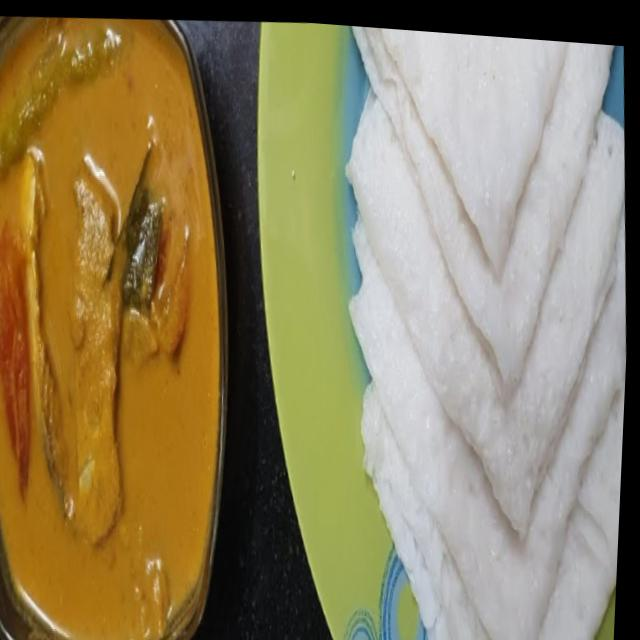DOSA: (347, 26, 626, 640)
FISH CURRY: (0, 18, 226, 640)
